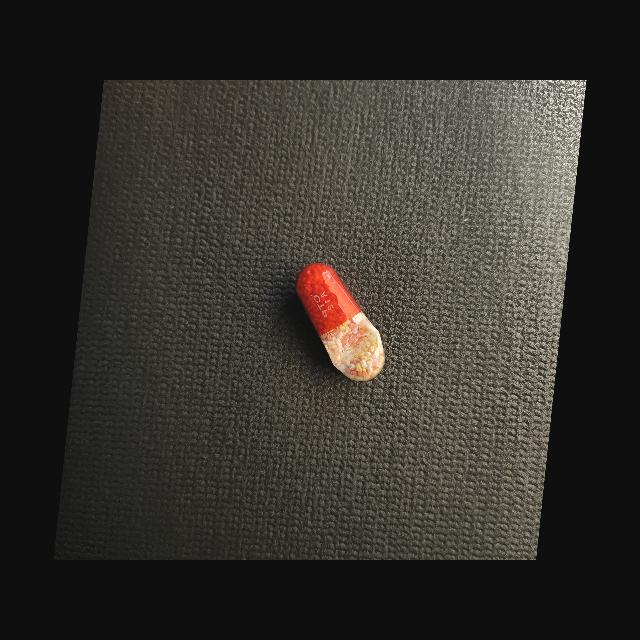Defective Capsule: (296, 263, 385, 381)
